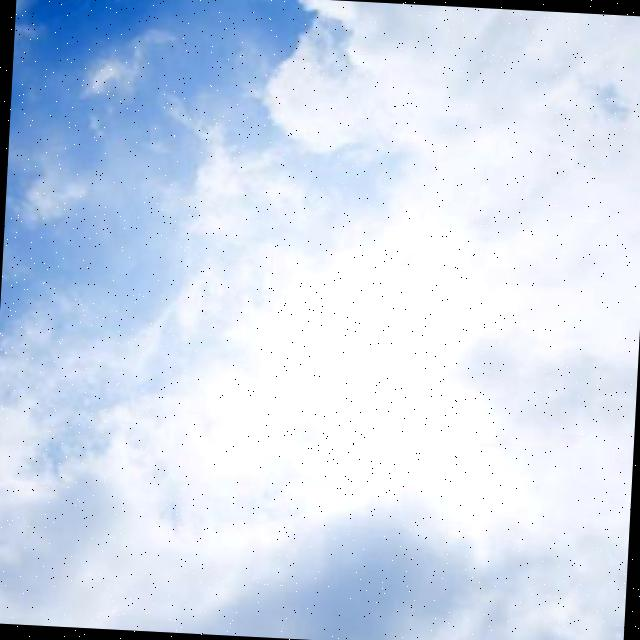As: (1, 9, 640, 640)
